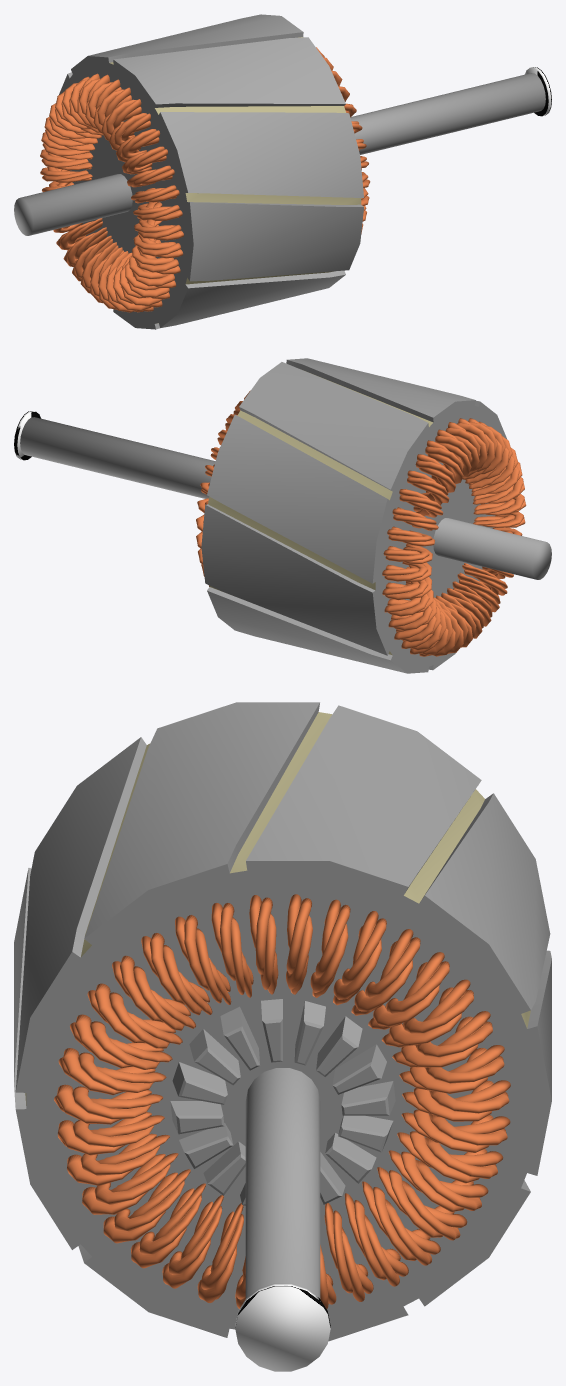
Rendered from rotor.fbx.
3 views of the same model, one above another, from view 1: azimuth 30°, elevation 25°; view 2: azimuth 150°, elevation 25°; view 3: azimuth 270°, elevation 25° (orthographic). The views are drawn at different scales.
Parts seen in each view (by area): view 1: rotor; view 2: rotor; view 3: rotor.
Boxes of the visible parts, bbox=[...] form: rotor: bbox=[14, 14, 551, 329]; rotor: bbox=[14, 358, 551, 673]; rotor: bbox=[14, 702, 551, 1371].
Bounding box in the file's own units: 1935 × 905 × 919.
5 materials, 1 textured.
